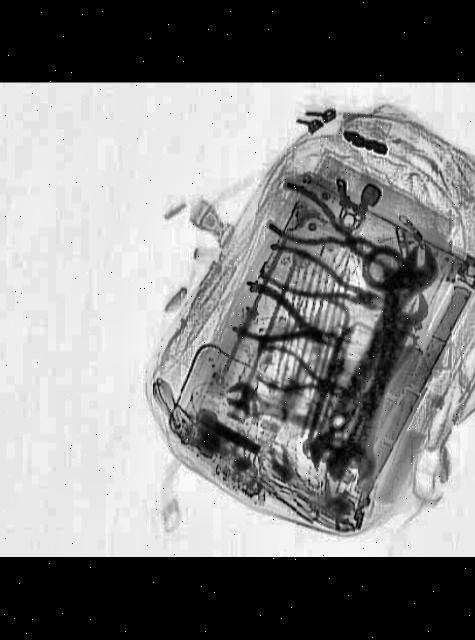Pliers: (255, 181, 408, 286), (252, 242, 399, 327), (222, 280, 354, 369), (244, 343, 345, 410)
Wrench: (306, 245, 448, 466), (324, 286, 436, 491), (222, 381, 327, 442)
